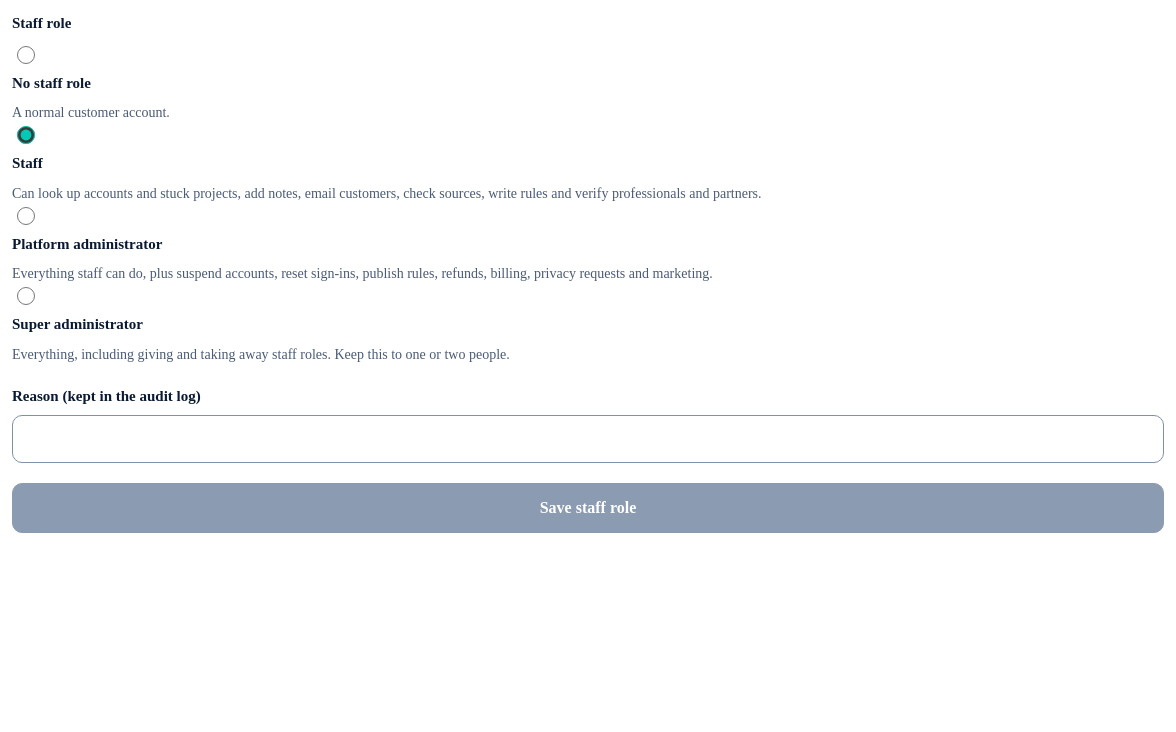
Test: the current role is picked and saving waits for a change
Expected: the radio button labelled "Staff" is checked, [17,126,35,144]
Expected: the button "Save staff role" is disabled, [12,483,1164,533]
Click the radio button labelled "No staff role A normal customer account." at [26, 54], box [17,46,35,64]
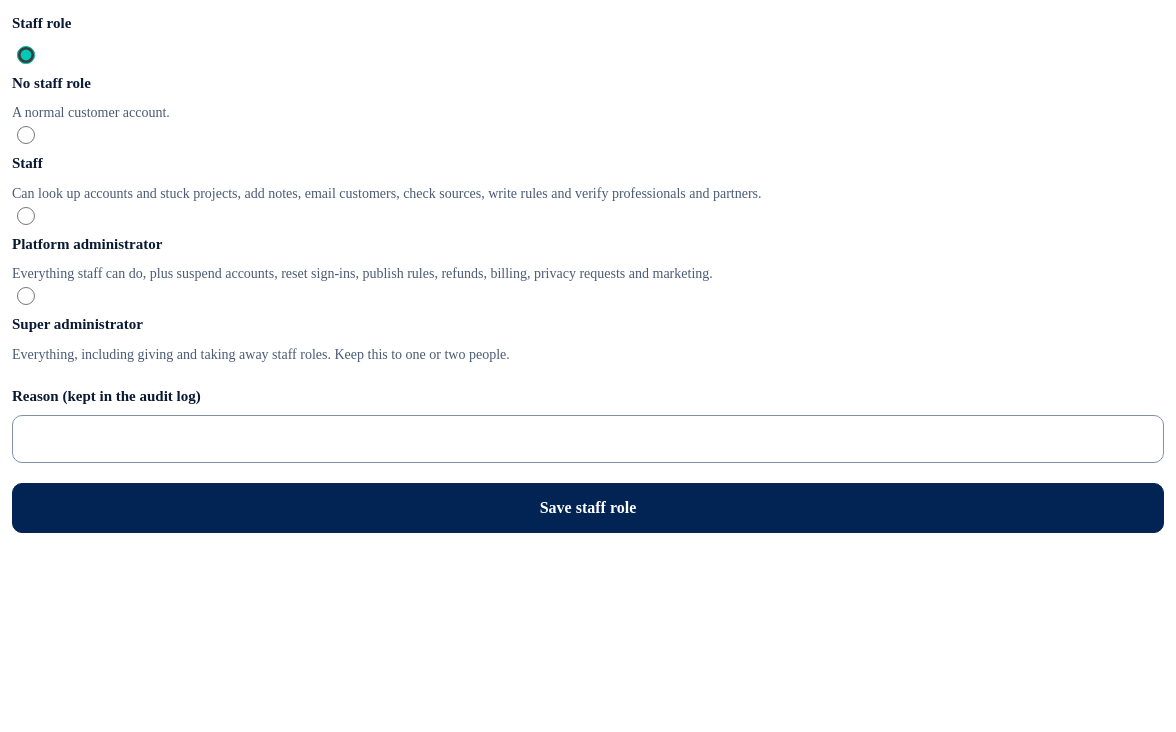
Result: the button "Save staff role" is enabled at [12,483,1164,533]
